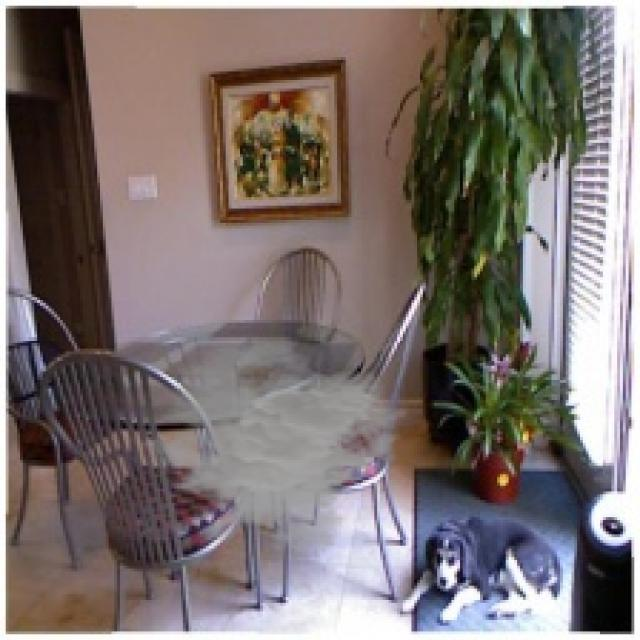smoke: (128, 340, 412, 554)
